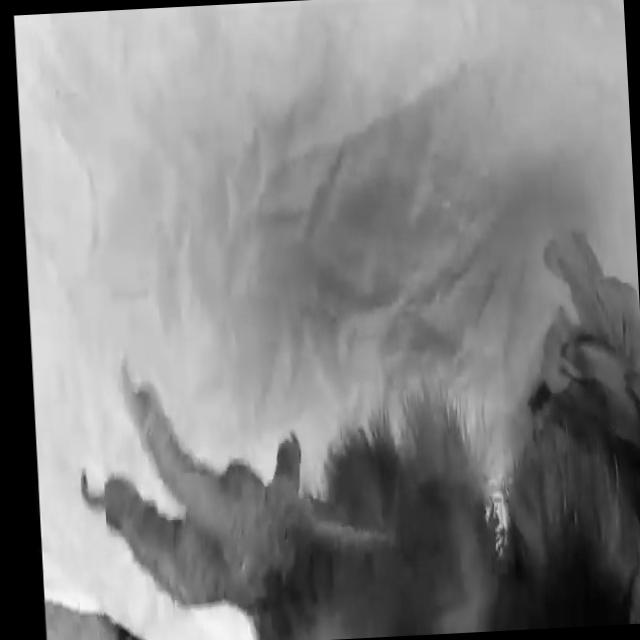bird flu: (71, 204, 640, 640)
